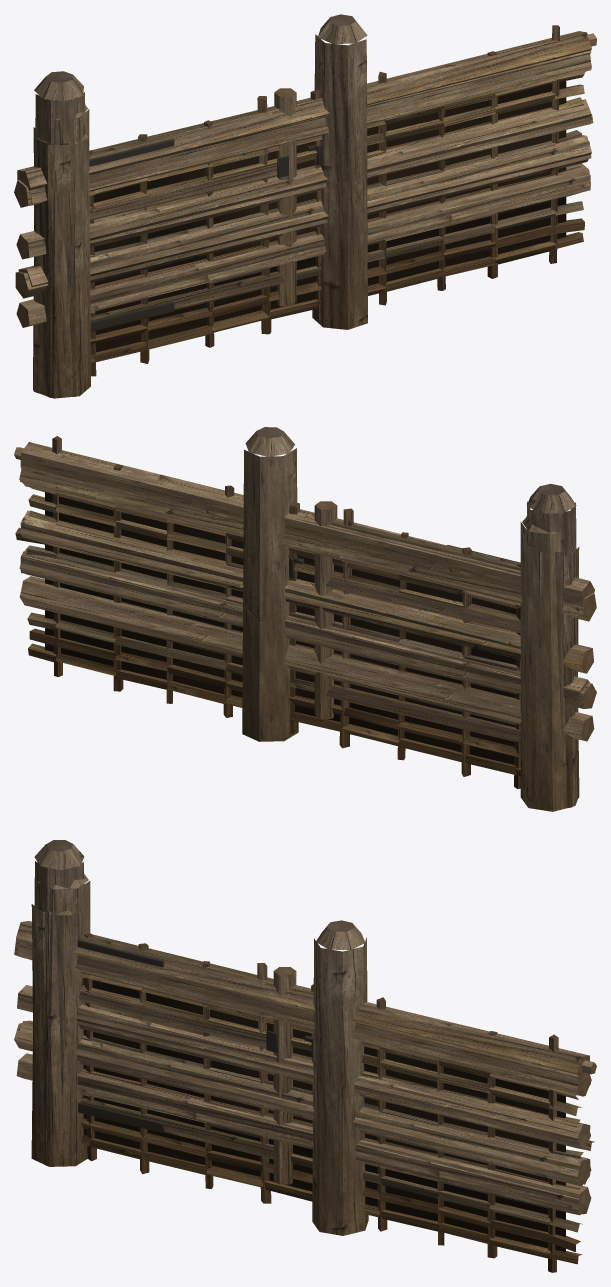
The model's file is village-fence-1-lite-v3b.glb.
3 renders of one model, top to bottom at view 1: azimuth 30°, elevation 25°; view 2: azimuth 150°, elevation 25°; view 3: azimuth 330°, elevation 25°, orthographic.
Parts seen in each view (by area): view 1: FenceWattle, FenceSegment3RailStart, GatePosts, FenceCorner, FenceSegment3Rail, GateLeaf, FenceSegment, FenceSegmentStart, FenceEndPost; view 2: FenceWattle, FenceSegment3RailStart, GatePosts, FenceCorner, FenceSegment3Rail, FenceSegment, GateLeaf, FenceSegmentStart, FenceEndPost; view 3: FenceWattle, FenceSegment3RailStart, GatePosts, FenceCorner, FenceSegment3Rail, GateLeaf, FenceSegment, FenceSegmentStart, FenceEndPost.
Boxes of the visible parts, x1=… form: FenceWattle: x1=89, y1=25, x2=596, y2=376; FenceSegment3RailStart: x1=16, y1=31, x2=591, y2=327; GatePosts: x1=33, y1=14, x2=367, y2=397; FenceCorner: x1=33, y1=62, x2=591, y2=398; FenceSegment3Rail: x1=53, y1=50, x2=591, y2=310; GateLeaf: x1=89, y1=88, x2=296, y2=331; FenceSegment: x1=89, y1=53, x2=591, y2=280; FenceSegmentStart: x1=14, y1=59, x2=591, y2=323; FenceEndPost: x1=18, y1=137, x2=71, y2=298; FenceWattle: x1=14, y1=436, x2=520, y2=788; FenceSegment3RailStart: x1=20, y1=442, x2=594, y2=741; GatePosts: x1=242, y1=427, x2=579, y2=810; FenceCorner: x1=20, y1=468, x2=579, y2=811; FenceSegment3Rail: x1=19, y1=466, x2=521, y2=724; FenceSegment: x1=19, y1=473, x2=521, y2=693; GateLeaf: x1=314, y1=501, x2=520, y2=742; FenceSegmentStart: x1=19, y1=470, x2=596, y2=708; FenceEndPost: x1=562, y1=547, x2=589, y2=704; FenceWattle: x1=80, y1=933, x2=596, y2=1272; FenceSegment3RailStart: x1=16, y1=921, x2=590, y2=1212; GatePosts: x1=31, y1=840, x2=368, y2=1235; FenceCorner: x1=31, y1=867, x2=590, y2=1186; FenceSegment3Rail: x1=35, y1=906, x2=591, y2=1214; GateLeaf: x1=77, y1=933, x2=296, y2=1184; FenceSegment: x1=76, y1=955, x2=591, y2=1184; FenceSegmentStart: x1=14, y1=910, x2=591, y2=1184; FenceEndPost: x1=17, y1=904, x2=46, y2=1056.
Bounding box in the file's own units: 3.06 × 1.58 × 0.2737.
1 material, 1 textured.
